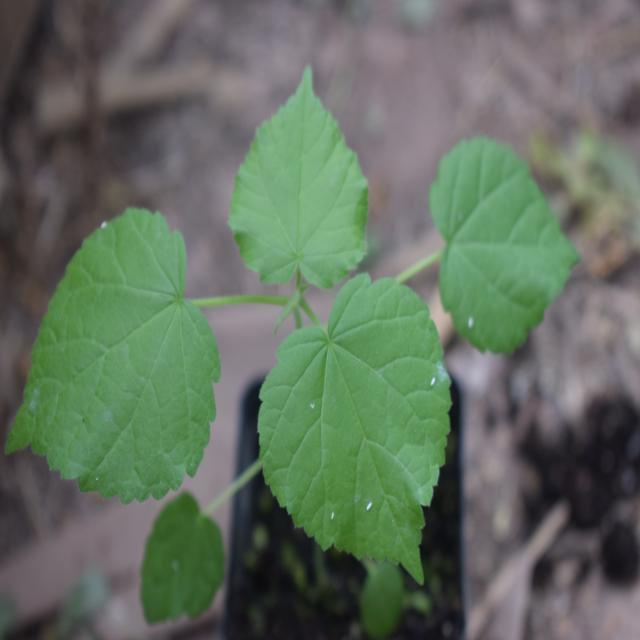abutilon theophrasti: (24, 87, 575, 574)
